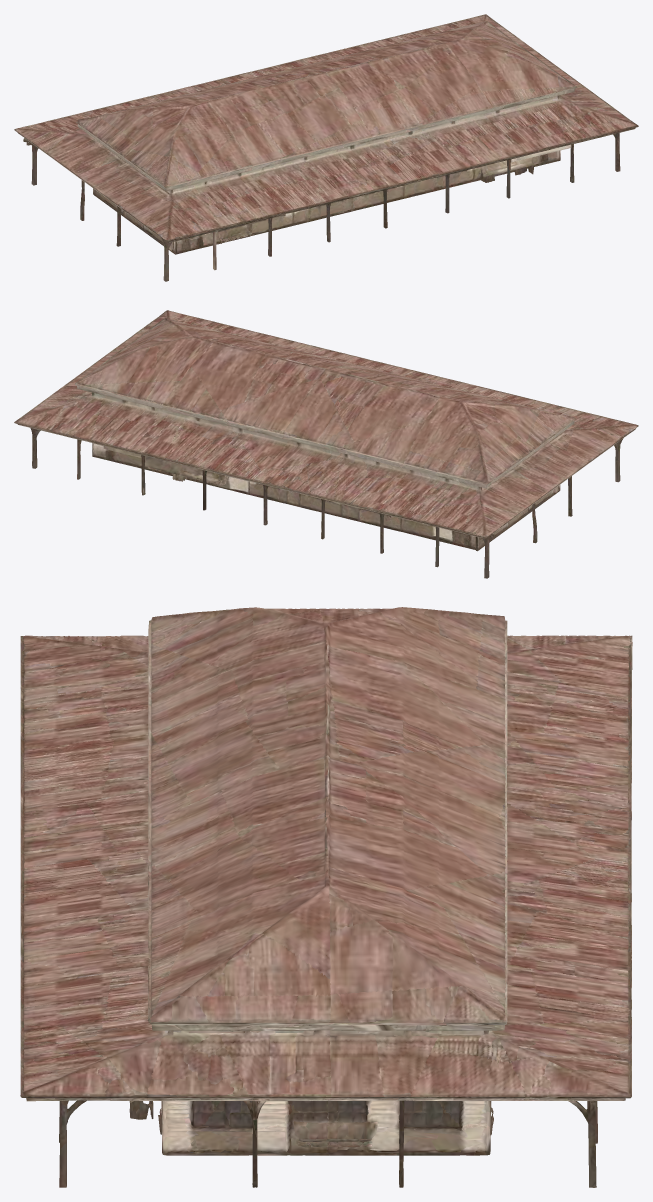
The model's file is 01M3W89Y2WAQSZJMPZEFEQSCZB.glb.
The picture shows the model from 3 angles, top to bottom: view 1: azimuth 30°, elevation 25°; view 2: azimuth 150°, elevation 25°; view 3: azimuth 270°, elevation 25°; orthographic projection. The views are drawn at different scales.
Size of the model in its own units: 1.9 by 0.4106 by 1.07.
1 material, 1 textured.
